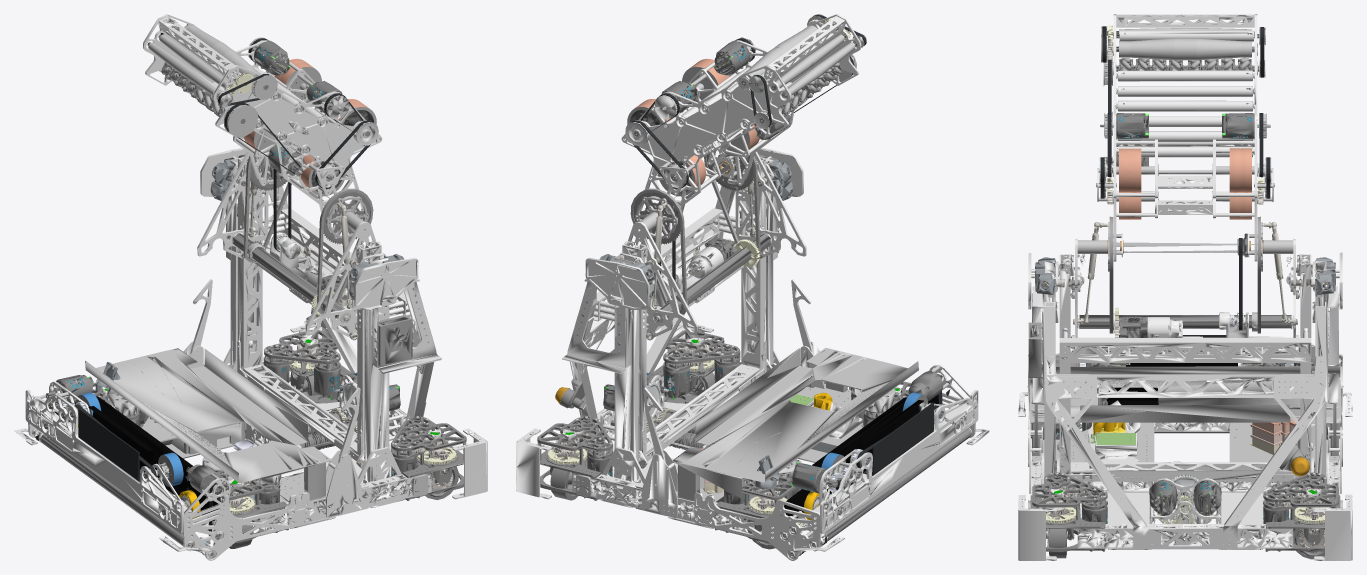
The model's file is roti-5940.glb.
3 views of the same model, side by side, from view 1: azimuth 30°, elevation 25°; view 2: azimuth 150°, elevation 25°; view 3: azimuth 270°, elevation 25° (orthographic).
Parts seen in each view (by area): view 1: frame, shooter, intake, carriage, elevator-stage; view 2: frame, shooter, intake, carriage, elevator-stage; view 3: frame, shooter, elevator-stage, carriage, intake.
Boxes of the visible parts, <box> form: frame: <box>14,148,487,552</box>; shooter: <box>143,14,382,232</box>; intake: <box>25,375,309,560</box>; carriage: <box>197,151,375,340</box>; elevator-stage: <box>228,157,410,468</box>; frame: <box>516,148,989,552</box>; shooter: <box>621,14,866,232</box>; intake: <box>694,364,978,560</box>; carriage: <box>628,150,806,340</box>; elevator-stage: <box>593,157,775,468</box>; frame: <box>1018,252,1352,560</box>; shooter: <box>1096,14,1274,261</box>; elevator-stage: <box>1055,254,1315,481</box>; carriage: <box>1068,216,1302,366</box>; intake: <box>1027,335,1343,466</box>.
Size of the model in its own units: 0.8316 by 1.16 by 0.7683.
